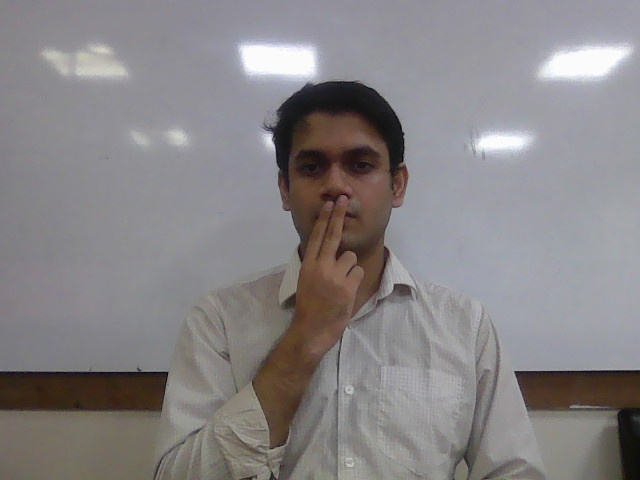Bak: (293, 194, 366, 354)
